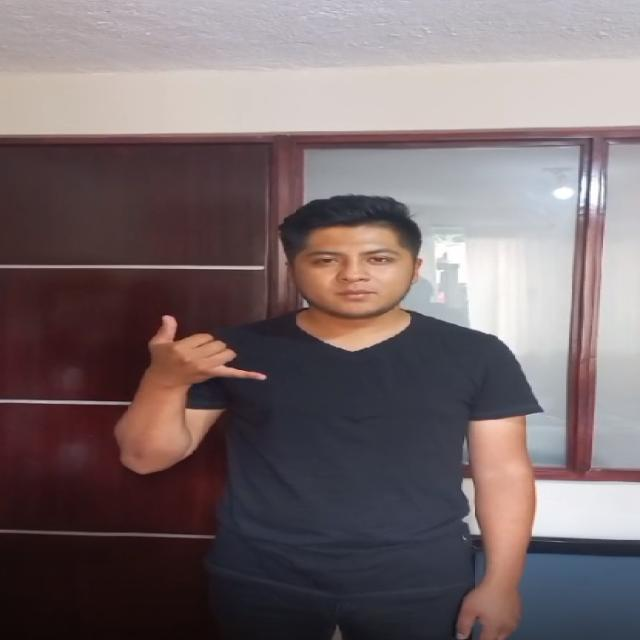Y: (117, 290, 299, 435)
